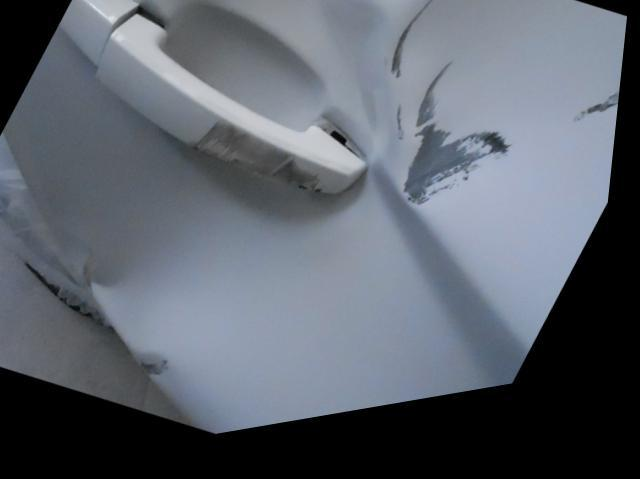dent: (204, 0, 630, 249), (7, 93, 271, 420)
dislocated part: (87, 0, 381, 238)
rub: (199, 126, 337, 216)
